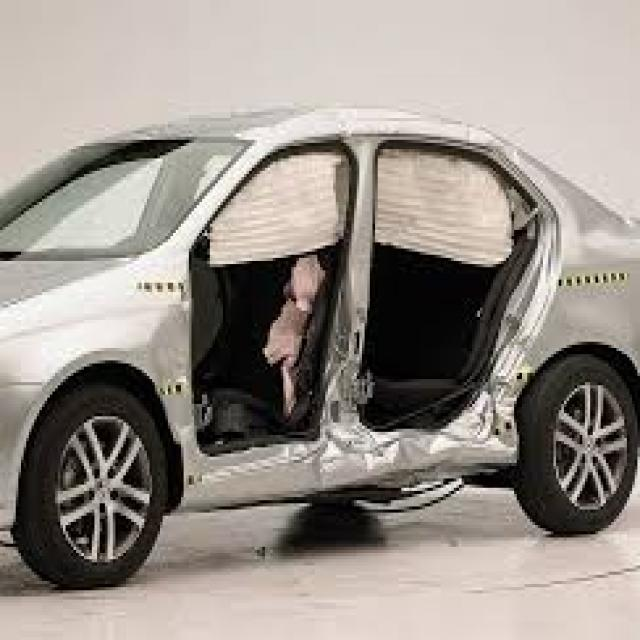moderate: (276, 260, 640, 517)
